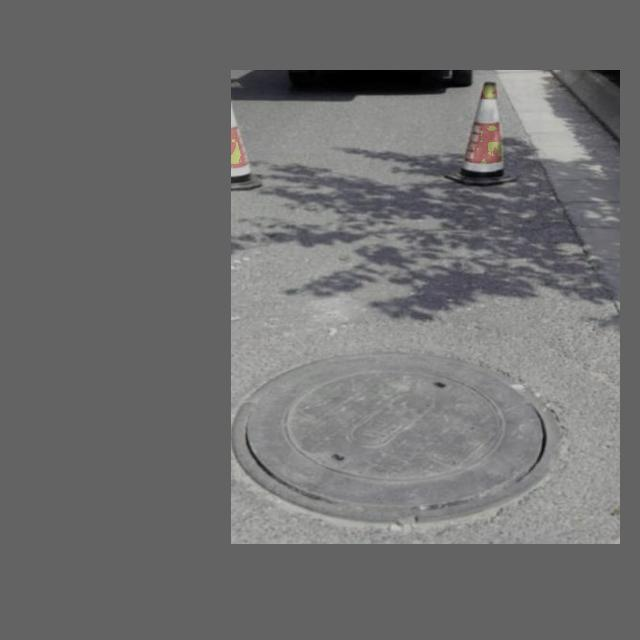good: (232, 347, 572, 525)
